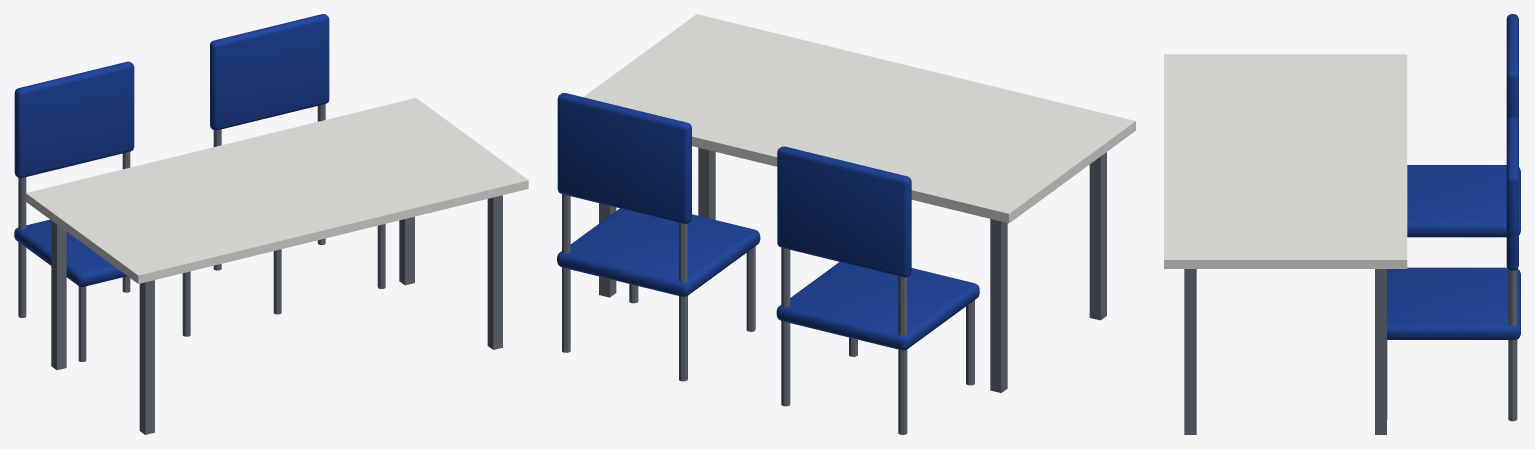
The model's file is school.desk.nursery.glb.
The picture shows the model from 3 angles, left to right: view 1: azimuth 30°, elevation 25°; view 2: azimuth 150°, elevation 25°; view 3: azimuth 270°, elevation 25°; orthographic projection. The views are drawn at different scales.
Visible parts, largest first — view 1: table__laminate_white, chairs__plastic_blue, table__steel_painted, chairs__steel_painted; view 2: table__laminate_white, chairs__plastic_blue, table__steel_painted, chairs__steel_painted; view 3: table__laminate_white, chairs__plastic_blue, table__steel_painted, chairs__steel_painted.
Part boxes in pixels (x1,y1,x2,y2): table__laminate_white: (25,98,528,283); chairs__plastic_blue: (14,14,329,286); table__steel_painted: (51,195,502,434); chairs__steel_painted: (18,104,385,361); table__laminate_white: (583,14,1135,223); chairs__plastic_blue: (557,93,979,350); table__steel_painted: (599,147,1106,392); chairs__steel_painted: (562,194,974,434); table__laminate_white: (1164,54,1407,268); chairs__plastic_blue: (1387,14,1520,339); table__steel_painted: (1184,269,1386,434); chairs__steel_painted: (1387,269,1517,421).
Bounding box in the file's own units: 1.2 × 0.67 × 0.88.
